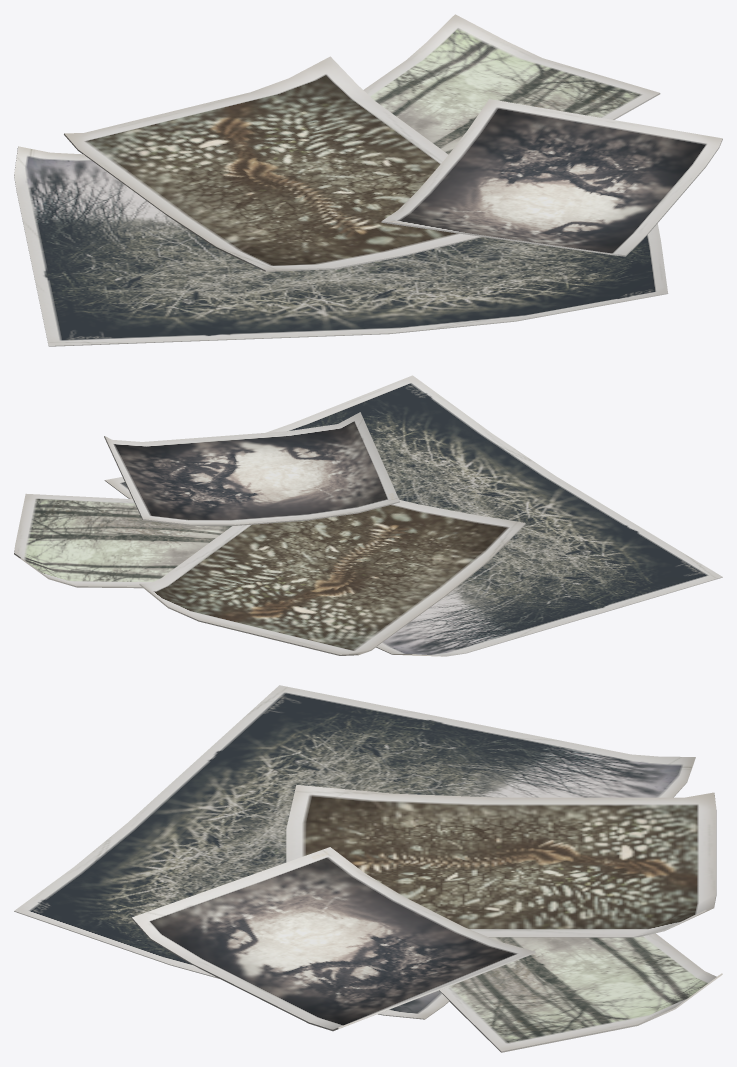
The model's file is Picture_Pile_3.FBX.
The picture shows the model from 3 angles, top to bottom: view 1: azimuth 30°, elevation 25°; view 2: azimuth 150°, elevation 25°; view 3: azimuth 270°, elevation 25°; orthographic projection. The views are drawn at different scales.
Parts seen in each view (by area): view 1: Picture_Pile_3; view 2: Picture_Pile_3; view 3: Picture_Pile_3.
Boxes of the visible parts, x1=… form: Picture_Pile_3: x1=14, y1=14, x2=722, y2=346; Picture_Pile_3: x1=14, y1=375, x2=722, y2=656; Picture_Pile_3: x1=14, y1=685, x2=722, y2=1052.
Size of the model in its own units: 55.61 by 2.02 by 45.41.
